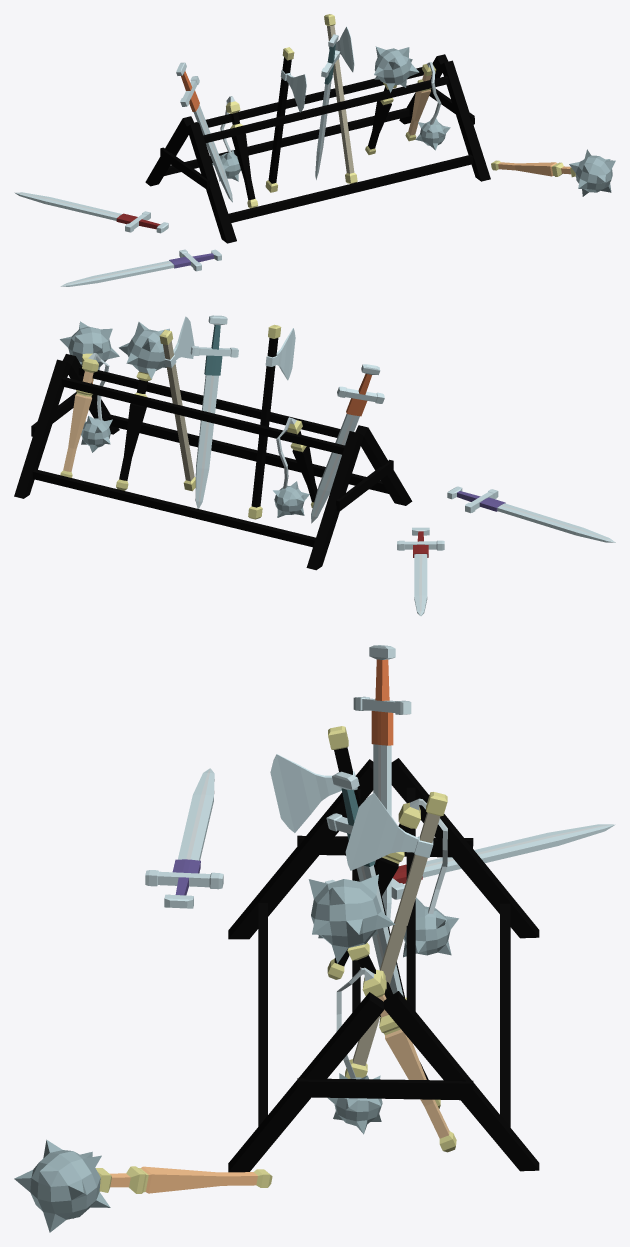
The model's file is Weapons.fbx.
3 renders of one model, top to bottom at view 1: azimuth 30°, elevation 25°; view 2: azimuth 150°, elevation 25°; view 3: azimuth 270°, elevation 25°, orthographic. The views are drawn at different scales.
Parts seen in each view (by area): view 1: Cube.012, Cube.020, Cube.016, Cube.017, Cube.018, Cube.014, Cube.015, Cube.013, Cube.011, Cube.008, Cube.019; view 2: Cube.012, Cube.016, Cube.019, Cube.017, Cube.015, Cube.008, Cube.018, Cube.014, Cube.013, Cube.011, Cube.020; view 3: Cube.012, Cube.020, Cube.018, Cube.016, Cube.015, Cube.014, Cube.017, Cube.013, Cube.008, Cube.011, Cube.019.
Boxes of the visible parts, x1=… form: Cube.012: x1=145, y1=54, x2=490, y2=243; Cube.020: x1=491, y1=149, x2=615, y2=196; Cube.016: x1=365, y1=46, x2=419, y2=154; Cube.017: x1=265, y1=47, x2=306, y2=192; Cube.018: x1=324, y1=14, x2=357, y2=183; Cube.014: x1=212, y1=96, x2=257, y2=208; Cube.015: x1=405, y1=62, x2=450, y2=150; Cube.013: x1=60, y1=249, x2=221, y2=286; Cube.011: x1=14, y1=192, x2=168, y2=233; Cube.008: x1=176, y1=62, x2=232, y2=202; Cube.019: x1=315, y1=34, x2=340, y2=179; Cube.012: x1=14, y1=354, x2=412, y2=570; Cube.016: x1=116, y1=322, x2=169, y2=490; Cube.019: x1=190, y1=315, x2=238, y2=508; Cube.017: x1=248, y1=324, x2=295, y2=519; Cube.015: x1=60, y1=353, x2=112, y2=477; Cube.008: x1=311, y1=364, x2=384, y2=523; Cube.018: x1=159, y1=316, x2=195, y2=491; Cube.014: x1=273, y1=417, x2=317, y2=517; Cube.013: x1=447, y1=486, x2=615, y2=542; Cube.011: x1=397, y1=527, x2=444, y2=616; Cube.020: x1=60, y1=321, x2=119, y2=421; Cube.012: x1=228, y1=758, x2=539, y2=1172; Cube.020: x1=14, y1=1139, x2=272, y2=1232; Cube.018: x1=345, y1=792, x2=447, y2=1078; Cube.016: x1=308, y1=874, x2=440, y2=1108; Cube.015: x1=327, y1=967, x2=456, y2=1152; Cube.014: x1=327, y1=798, x2=458, y2=979; Cube.017: x1=270, y1=726, x2=406, y2=999; Cube.013: x1=145, y1=768, x2=223, y2=908; Cube.008: x1=353, y1=645, x2=411, y2=929; Cube.011: x1=325, y1=824, x2=615, y2=899; Cube.019: x1=326, y1=771, x2=403, y2=996.
Bounding box in the file's own units: 611 × 178 × 328.
